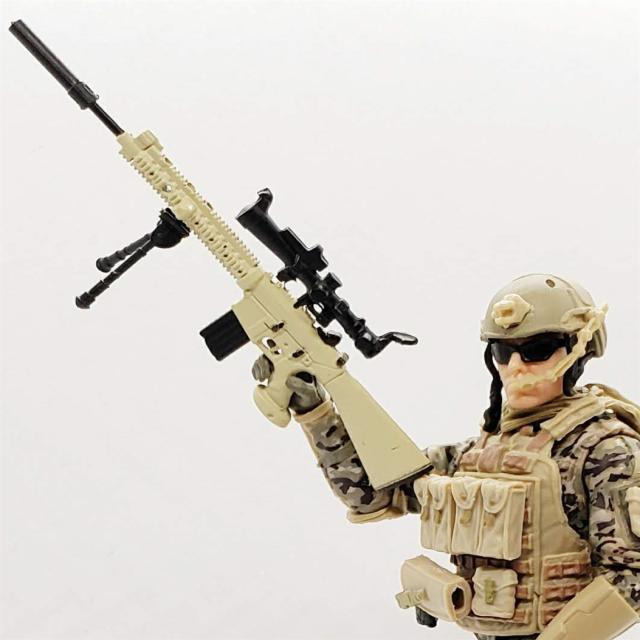Rifle: (11, 21, 434, 492)
